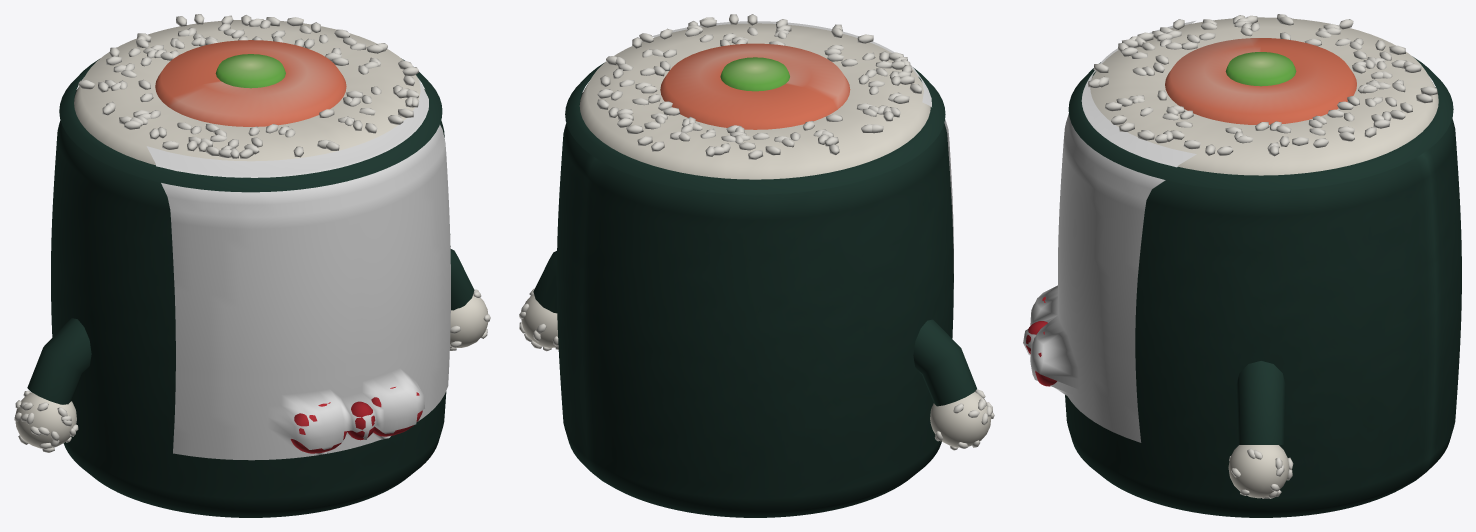
File: folk2_maki.glb
3 views of the same model, side by side, from view 1: azimuth 30°, elevation 25°; view 2: azimuth 150°, elevation 25°; view 3: azimuth 270°, elevation 25° (orthographic).
Visible parts, largest first — view 1: maki_body, maki_face, maki_arm_l, maki_arm_r; view 2: maki_body, maki_arm_l, maki_arm_r, maki_face; view 3: maki_body, maki_face, maki_arm_r.
Part boxes in pixels (x1=…): maki_body: x1=51, y1=14, x2=450, y2=517; maki_face: x1=146, y1=80, x2=450, y2=460; maki_arm_l: x1=14, y1=318, x2=91, y2=452; maki_arm_r: x1=450, y1=249, x2=490, y2=350; maki_body: x1=556, y1=14, x2=953, y2=517; maki_arm_l: x1=913, y1=319, x2=994, y2=450; maki_arm_r: x1=519, y1=251, x2=558, y2=351; maki_face: x1=652, y1=21, x2=953, y2=288; maki_body: x1=1026, y1=14, x2=1461, y2=517; maki_face: x1=1023, y1=21, x2=1196, y2=442; maki_arm_r: x1=1228, y1=361, x2=1293, y2=498.
Bounding box in the file's own units: 1.07 × 0.9004 × 0.8638.
